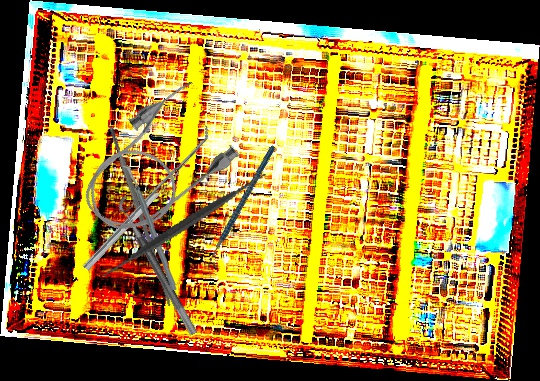Cannula: (62, 72, 249, 253)
Chopper: (171, 144, 311, 279), (113, 163, 184, 291)
Fixation Ring: (114, 190, 210, 337)
Scalpel Handle: (108, 125, 174, 307)
Spatula Surgical: (93, 132, 276, 318), (77, 124, 216, 271)
